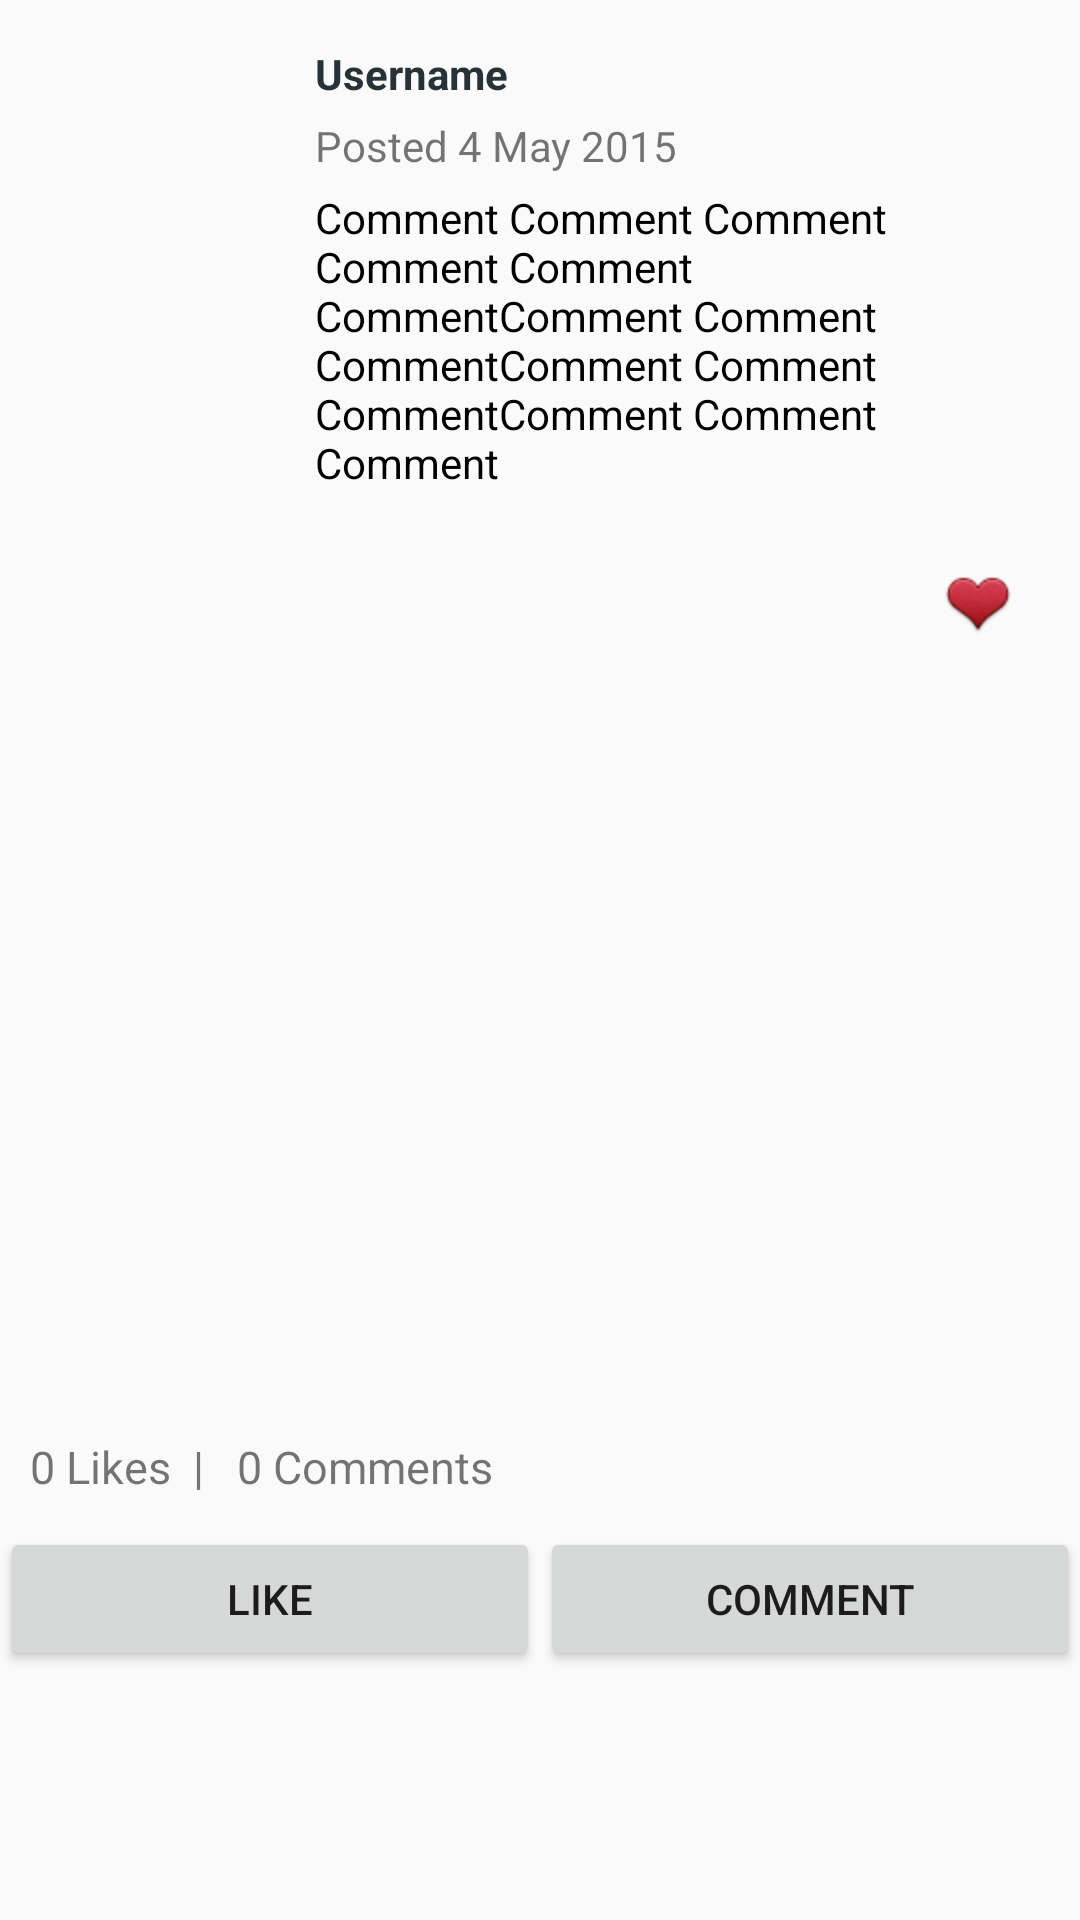

Named icons in this screenshot (1080 × 1920) and their centers, [x,y]:
heart: [978,604]
